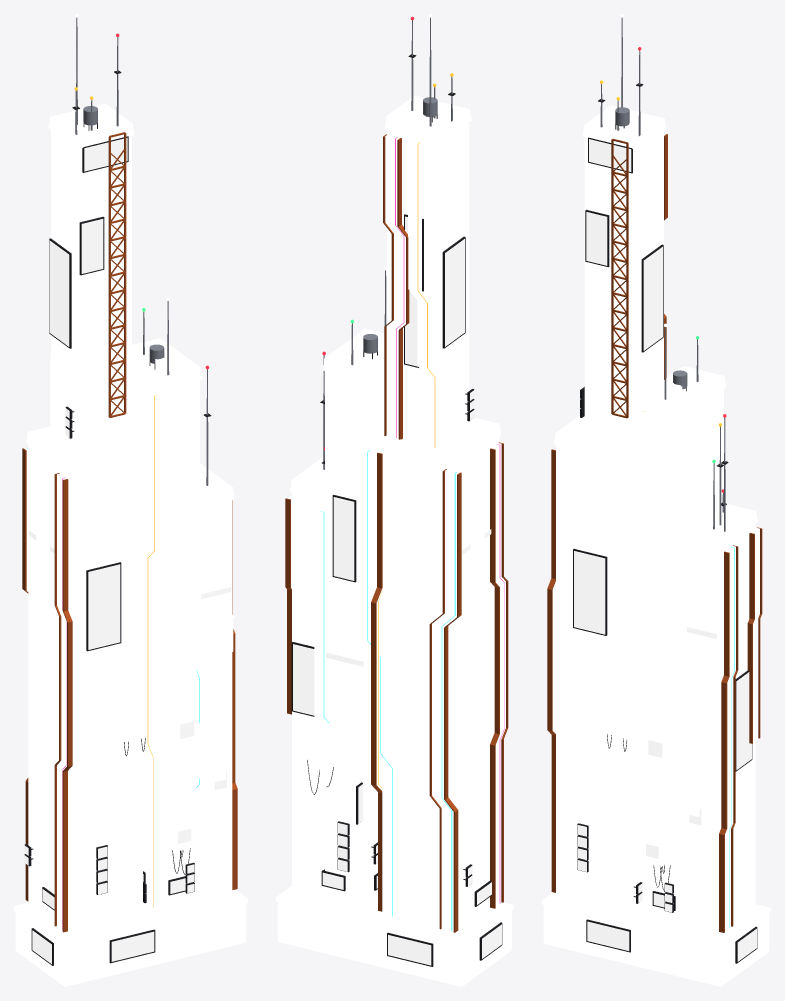
The model's file is k_slab_a.glb.
3 views of the same model, side by side, from view 1: azimuth 30°, elevation 25°; view 2: azimuth 150°, elevation 25°; view 3: azimuth 330°, elevation 25° (orthographic). The views are drawn at different scales.
Parts seen in each view (by area): view 1: kit_dark, kit_mid, kit_grey, screen_atlas, steel_orange, metal_dark, kit_hex, metal_light, neon_amber; view 2: kit_dark, kit_grey, kit_mid, steel_orange, screen_atlas, kit_hex, metal_dark, neon_cyan, metal_light, neon_magenta, neon_amber; view 3: kit_dark, kit_mid, kit_grey, steel_orange, screen_atlas, metal_dark, metal_light.
Part boxes in pixels (box(x1,y1,x2,y2)): kit_dark: box(28, 111, 232, 936); kit_mid: box(15, 115, 246, 986); kit_grey: box(14, 103, 247, 947); screen_atlas: box(24, 137, 231, 964); steel_orange: box(22, 132, 237, 932); metal_dark: box(24, 70, 211, 965); kit_hex: box(36, 518, 47, 802); metal_light: box(75, 17, 208, 485); neon_amber: box(74, 87, 157, 907); kit_dark: box(292, 103, 499, 936); kit_grey: box(276, 96, 513, 946); kit_mid: box(278, 107, 511, 986); steel_orange: box(285, 134, 508, 932); screen_atlas: box(293, 216, 501, 965); kit_hex: box(473, 515, 484, 805); metal_dark: box(291, 54, 502, 966); neon_cyan: box(320, 450, 457, 931); metal_light: box(323, 17, 452, 469); neon_magenta: box(395, 137, 504, 903); neon_amber: box(378, 73, 453, 788); kit_dark: box(556, 113, 755, 936); kit_mid: box(543, 117, 769, 986); kit_grey: box(542, 105, 770, 948); steel_orange: box(547, 134, 762, 932); screen_atlas: box(574, 139, 756, 961); metal_dark: box(573, 83, 757, 963); metal_light: box(600, 17, 725, 531).
Bounding box in the file's own units: 34.6 × 168 × 19.35.
